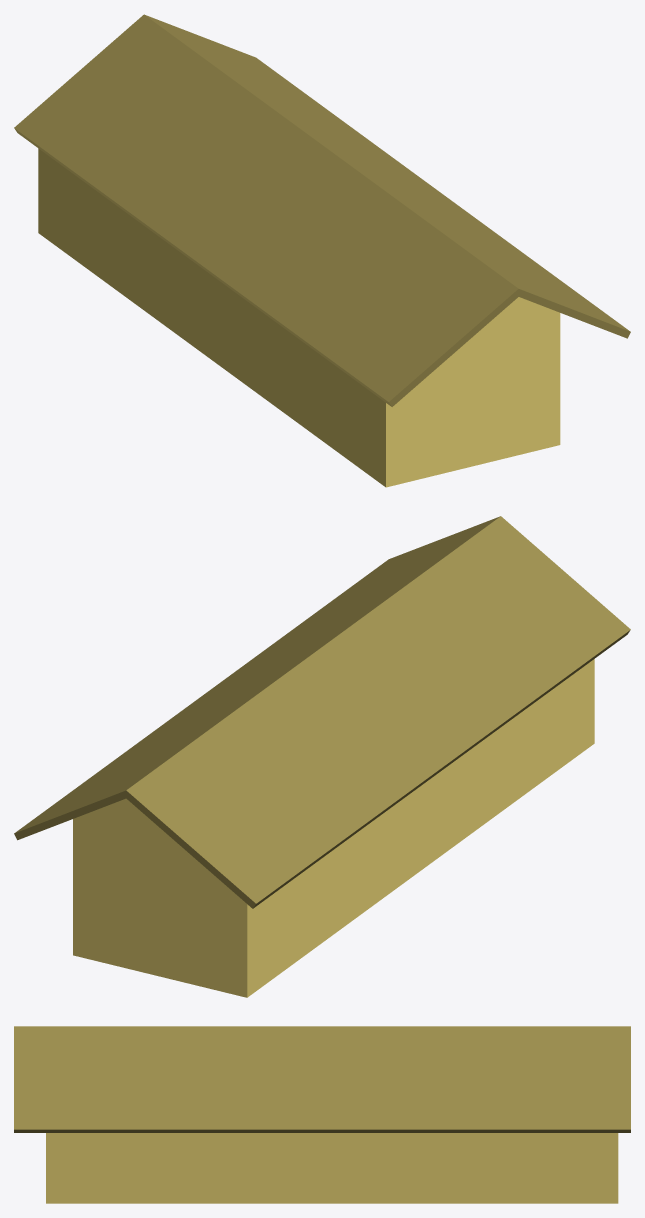
File: result.glb
3 renders of one model, top to bottom at view 1: azimuth 30°, elevation 25°; view 2: azimuth 150°, elevation 25°; view 3: azimuth 270°, elevation 25°, orthographic. The views are drawn at different scales.
Visible parts, largest first — view 1: e1056b6f-3f41-480c-8953-3708ed13c369__undefined (×2), def808bd-26dc-497b-a3fa-aa1a97973f1a__undefined; view 2: e1056b6f-3f41-480c-8953-3708ed13c369__undefined (×2), def808bd-26dc-497b-a3fa-aa1a97973f1a__undefined; view 3: e1056b6f-3f41-480c-8953-3708ed13c369__undefined, def808bd-26dc-497b-a3fa-aa1a97973f1a__undefined.
Part boxes in pixels (bbox=[...]): e1056b6f-3f41-480c-8953-3708ed13c369__undefined (×2): bbox=[14, 14, 630, 406]; def808bd-26dc-497b-a3fa-aa1a97973f1a__undefined: bbox=[38, 148, 560, 487]; e1056b6f-3f41-480c-8953-3708ed13c369__undefined (×2): bbox=[14, 516, 630, 908]; def808bd-26dc-497b-a3fa-aa1a97973f1a__undefined: bbox=[73, 659, 594, 997]; e1056b6f-3f41-480c-8953-3708ed13c369__undefined: bbox=[14, 1026, 630, 1132]; def808bd-26dc-497b-a3fa-aa1a97973f1a__undefined: bbox=[46, 1133, 618, 1203].
Size of the model in its own units: 912 by 667 by 2443.
